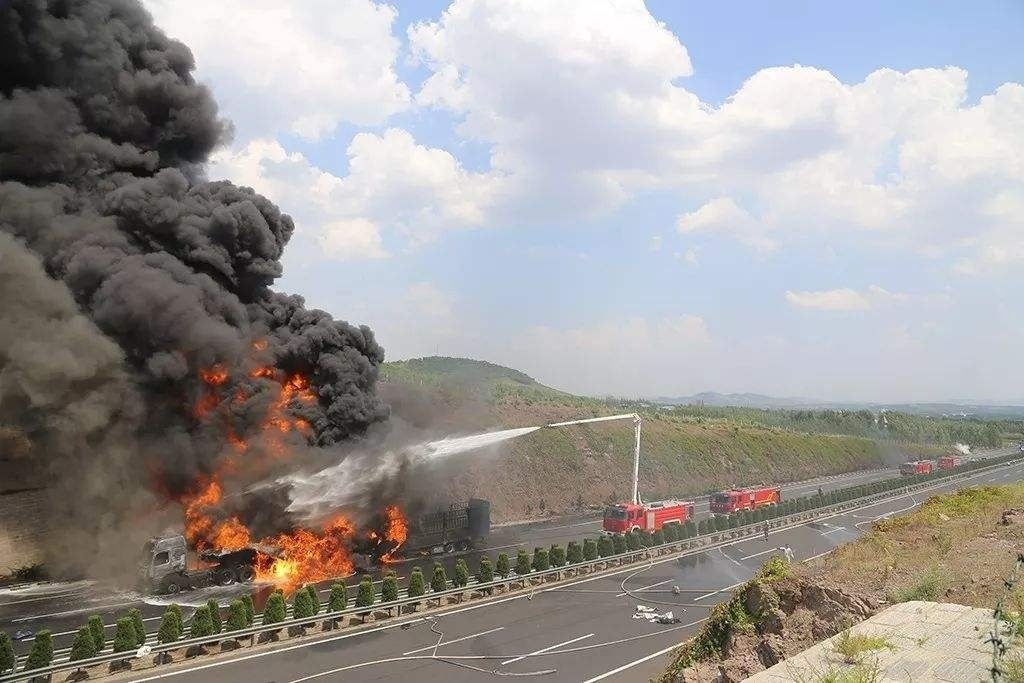fire: (177, 359, 408, 591)
